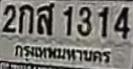1: (97, 6, 108, 36), (63, 5, 72, 35)
2: (2, 4, 15, 32)
3: (76, 6, 91, 35)
4: (113, 6, 128, 38)
A01: (18, 4, 33, 33)
A40: (36, 2, 54, 34)
BKK: (12, 41, 112, 65)
